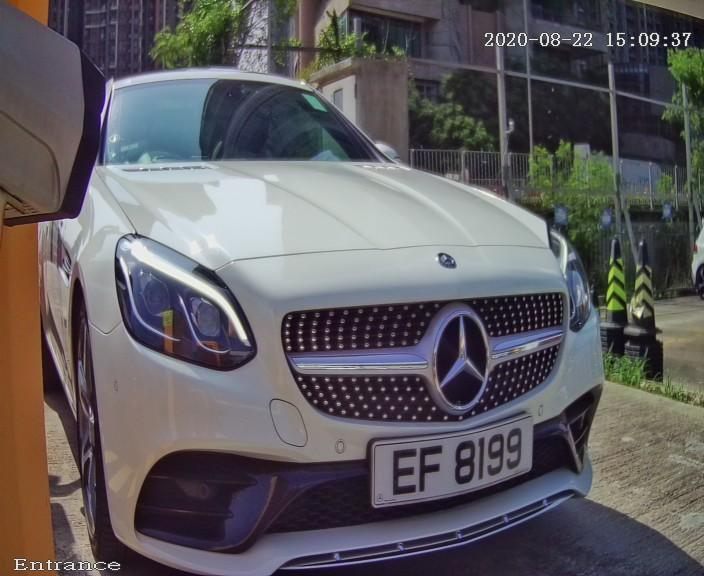License Plate: (348, 388, 548, 519)
